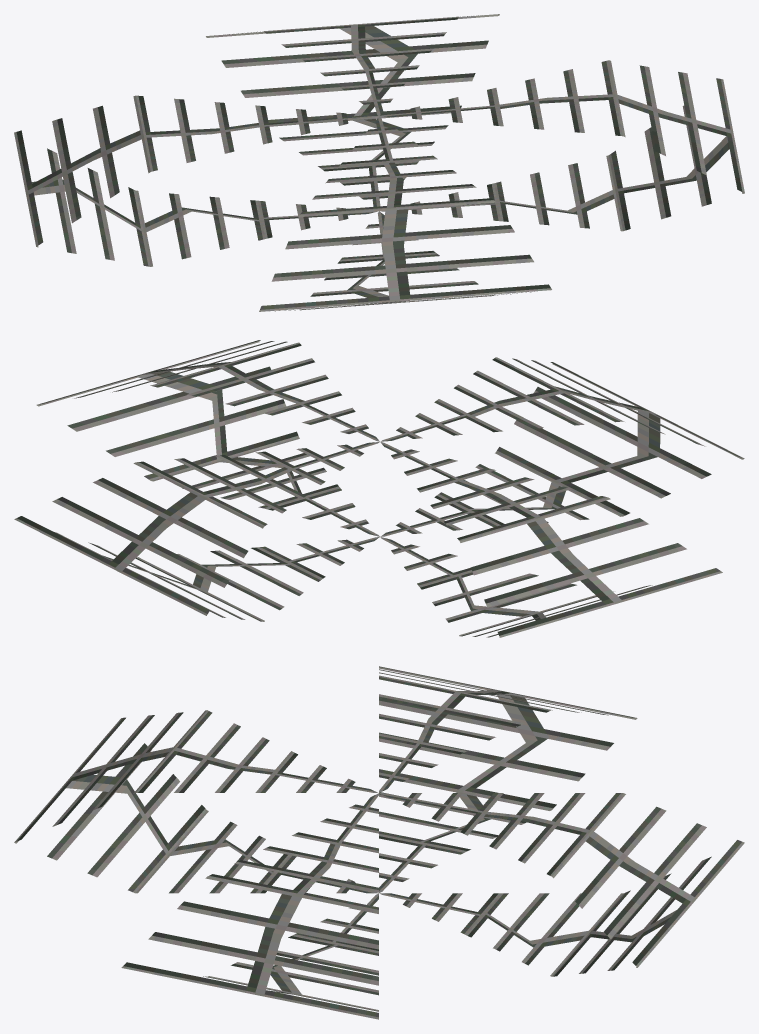
3 views of the same model, one above another, from view 1: azimuth 30°, elevation 25°; view 2: azimuth 150°, elevation 25°; view 3: azimuth 270°, elevation 25° (orthographic). The views are drawn at different scales.
Parts seen in each view (by area): view 1: Conft_obj_065; view 2: Conft_obj_065; view 3: Conft_obj_065.
Boxes of the visible parts, bbox=[...] form: Conft_obj_065: bbox=[14, 14, 744, 311]; Conft_obj_065: bbox=[14, 340, 744, 637]; Conft_obj_065: bbox=[14, 666, 744, 1019].
Size of the model in its own units: 1.52 by 0.2012 by 1.33.
1 material, 1 textured.
